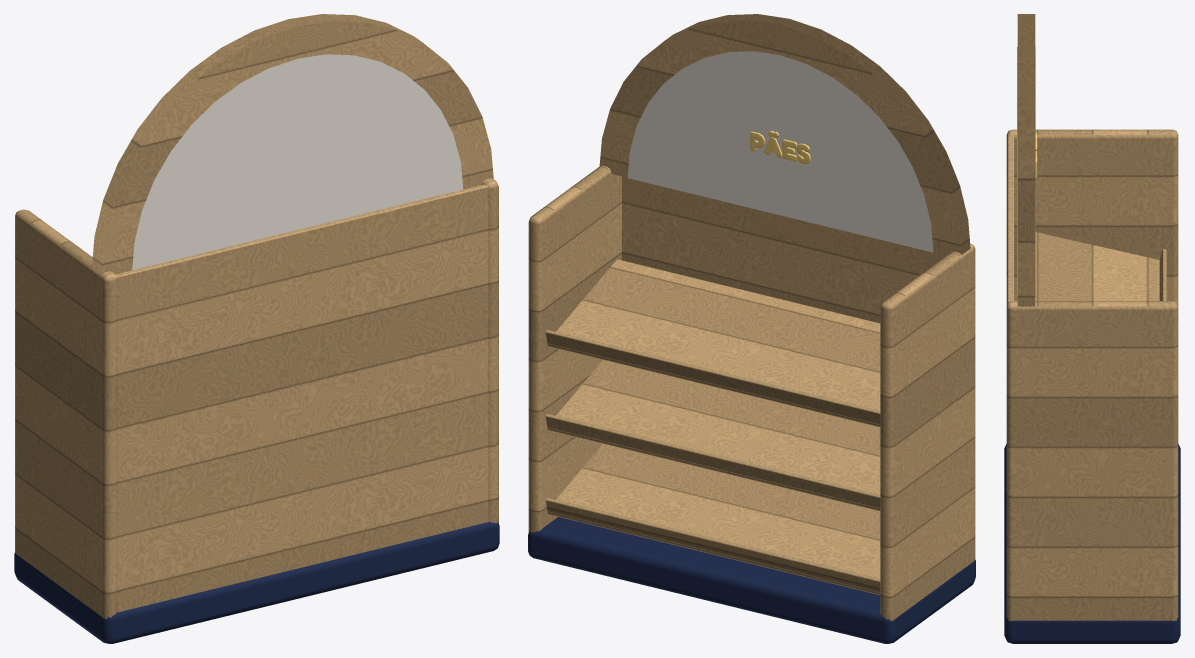
The model's file is shelf-bakery.fbx.
3 views of the same model, side by side, from view 1: azimuth 30°, elevation 25°; view 2: azimuth 150°, elevation 25°; view 3: azimuth 270°, elevation 25° (orthographic). The views are drawn at different scales.
Visible parts, largest first — view 1: Body; view 2: Body; view 3: Body.
Boxes of the visible parts, x1,y1,x2,y2 form: Body: (14,14,499,643); Body: (528,14,975,643); Body: (1004,14,1180,643).
Size of the model in its own units: 1.92 by 2.63 by 0.8.
